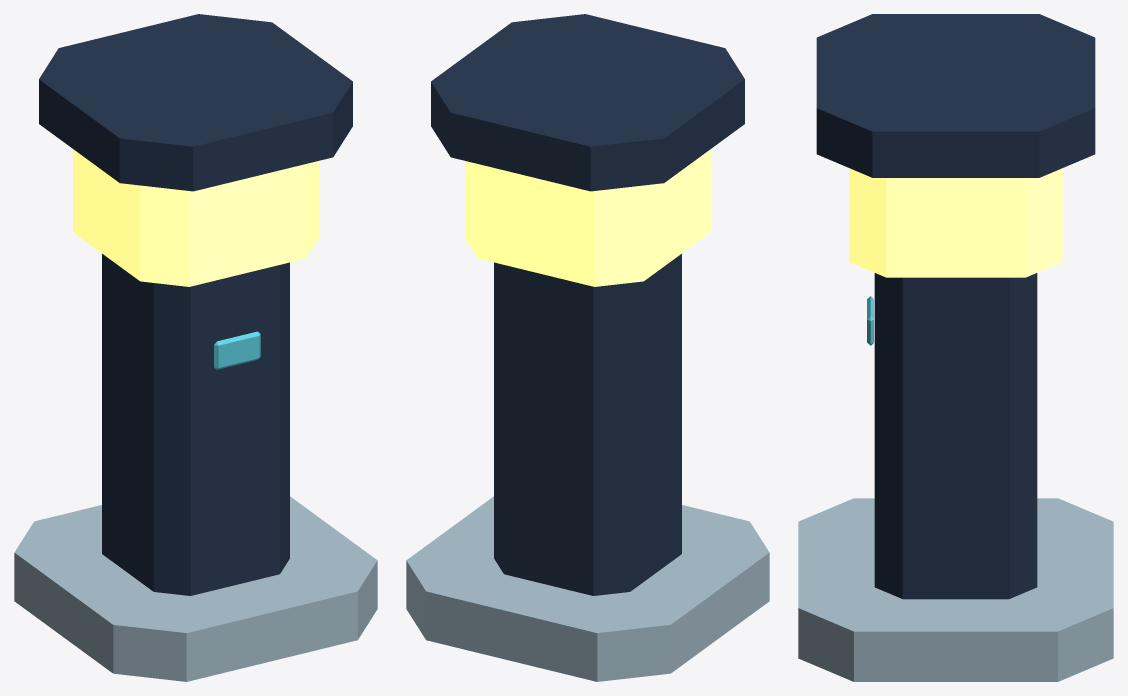
3 renders of one model, left to right at view 1: azimuth 30°, elevation 25°; view 2: azimuth 150°, elevation 25°; view 3: azimuth 270°, elevation 25°, orthographic. The views are drawn at different scales.
Visible parts, largest first — view 1: campus_path_bollard; view 2: campus_path_bollard; view 3: campus_path_bollard.
Boxes of the visible parts, left/top/right/bottom form: campus_path_bollard: left=14, top=14, right=377, bottom=681; campus_path_bollard: left=406, top=14, right=769, bottom=681; campus_path_bollard: left=798, top=14, right=1113, bottom=681.
Bounding box in the file's own units: 0.68 × 1.29 × 0.68.
Materials: 2 (2 with a texture image).
